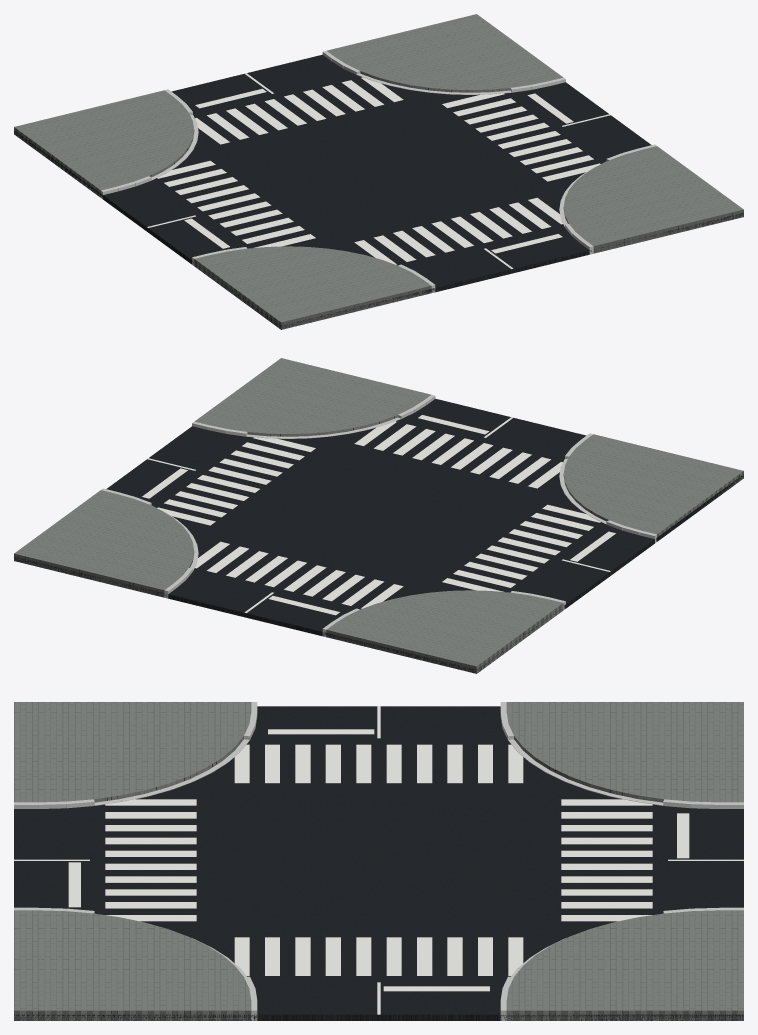
File: RK_Road_Cross_24m.glb
3 renders of one model, top to bottom at view 1: azimuth 30°, elevation 25°; view 2: azimuth 150°, elevation 25°; view 3: azimuth 270°, elevation 25°, orthographic. The views are drawn at different scales.
Parts seen in each view (by area): view 1: Surface_Asphalt.003, Sidewalk_Paving.002, Markings_White.003, Curb_Concrete.002; view 2: Surface_Asphalt.003, Sidewalk_Paving.002, Markings_White.003, Curb_Concrete.002; view 3: Surface_Asphalt.003, Sidewalk_Paving.002, Markings_White.003, Curb_Concrete.002.
Part boxes in pixels (box(x1,y1,x2,y2)): Surface_Asphalt.003: box(14, 54, 743, 329); Sidewalk_Paving.002: box(14, 14, 743, 329); Markings_White.003: box(147, 73, 610, 268); Curb_Concrete.002: box(101, 50, 656, 292); Surface_Asphalt.003: box(14, 398, 743, 673); Sidewalk_Paving.002: box(14, 358, 743, 673); Markings_White.003: box(142, 415, 615, 615); Curb_Concrete.002: box(101, 394, 656, 636); Surface_Asphalt.003: box(14, 706, 743, 1020); Sidewalk_Paving.002: box(14, 702, 743, 1020); Markings_White.003: box(14, 706, 743, 1014); Curb_Concrete.002: box(14, 702, 743, 1020).
Bounding box in the file's own units: 24 × 0.37 × 24.
Materials: 4 (2 with a texture image).
